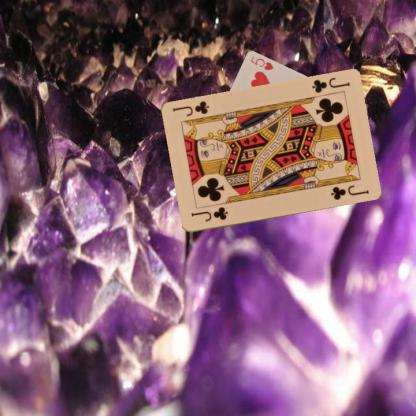Jc: (308, 75, 350, 95), (188, 205, 229, 223)
